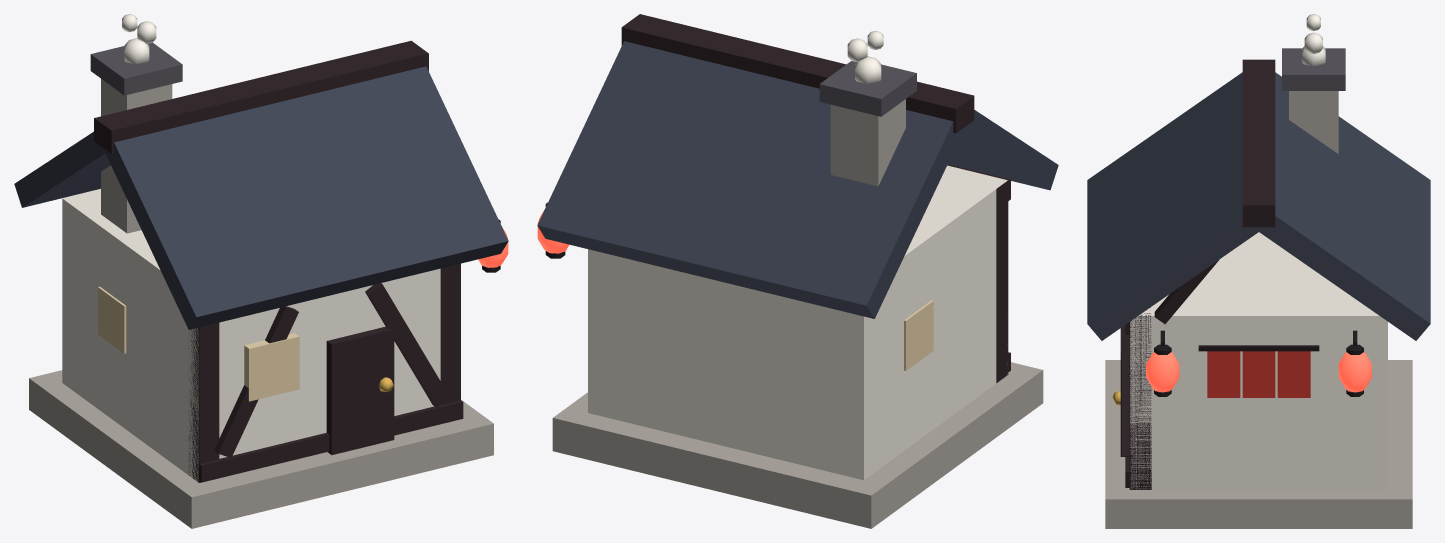
Rendered from building_house.glb.
The picture shows the model from 3 angles, left to right: view 1: azimuth 30°, elevation 25°; view 2: azimuth 150°, elevation 25°; view 3: azimuth 270°, elevation 25°; orthographic projection. The views are drawn at different scales.
Visible parts, largest first — view 1: roof_south, walls, foundation, ridge, door, timber_sill, timber_corner_w, roof_north, window_front, chimney_cap, chimney, timber_corner_e (+4 smaller); view 2: walls, roof_north, foundation, ridge, chimney, roof_south, chimney_cap, timber_corner_w, window_side, puff_0; view 3: walls, roof_south, roof_north, foundation, ridge, deco_noren, timber_corner_e, chimney_cap, chimney, deco_chochin_0_body, deco_chochin_1_body, timber_brace_e (+2 smaller).
Boxes of the visible parts, bbox=[...] form: roof_south: bbox=[103, 66, 508, 329]; walls: bbox=[62, 189, 440, 482]; foundation: bbox=[29, 370, 493, 528]; ridge: bbox=[94, 40, 428, 153]; door: bbox=[326, 326, 394, 454]; timber_sill: bbox=[199, 400, 463, 482]; timber_corner_w: bbox=[188, 322, 219, 482]; roof_north: bbox=[14, 131, 110, 207]; window_front: bbox=[244, 333, 299, 401]; chimney_cap: bbox=[90, 42, 182, 95]; chimney: bbox=[101, 79, 172, 233]; timber_corner_e: bbox=[440, 263, 460, 404]; walls: bbox=[588, 165, 1007, 480]; roof_north: bbox=[537, 41, 962, 318]; foundation: bbox=[552, 362, 1043, 528]; ridge: bbox=[621, 14, 974, 133]; chimney: bbox=[830, 99, 905, 186]; roof_south: bbox=[948, 110, 1058, 190]; chimney_cap: bbox=[819, 61, 916, 116]; timber_corner_w: bbox=[987, 175, 1008, 382]; window_side: bbox=[904, 300, 933, 370]; puff_0: bbox=[855, 56, 881, 84]; walls: bbox=[1130, 232, 1387, 489]; roof_south: bbox=[1087, 72, 1264, 340]; roof_north: bbox=[1253, 72, 1430, 340]; foundation: bbox=[1105, 360, 1412, 528]; ridge: bbox=[1242, 59, 1275, 227]; deco_noren: bbox=[1207, 351, 1310, 397]; timber_corner_e: bbox=[1129, 307, 1151, 489]; chimney_cap: bbox=[1282, 48, 1345, 90]; chimney: bbox=[1289, 91, 1338, 153]; deco_chochin_0_body: bbox=[1338, 352, 1371, 392]; deco_chochin_1_body: bbox=[1146, 352, 1179, 392]; timber_brace_e: bbox=[1122, 325, 1129, 456].
Bounding box in the file's own units: 0.3502 × 0.4 × 0.3134.
